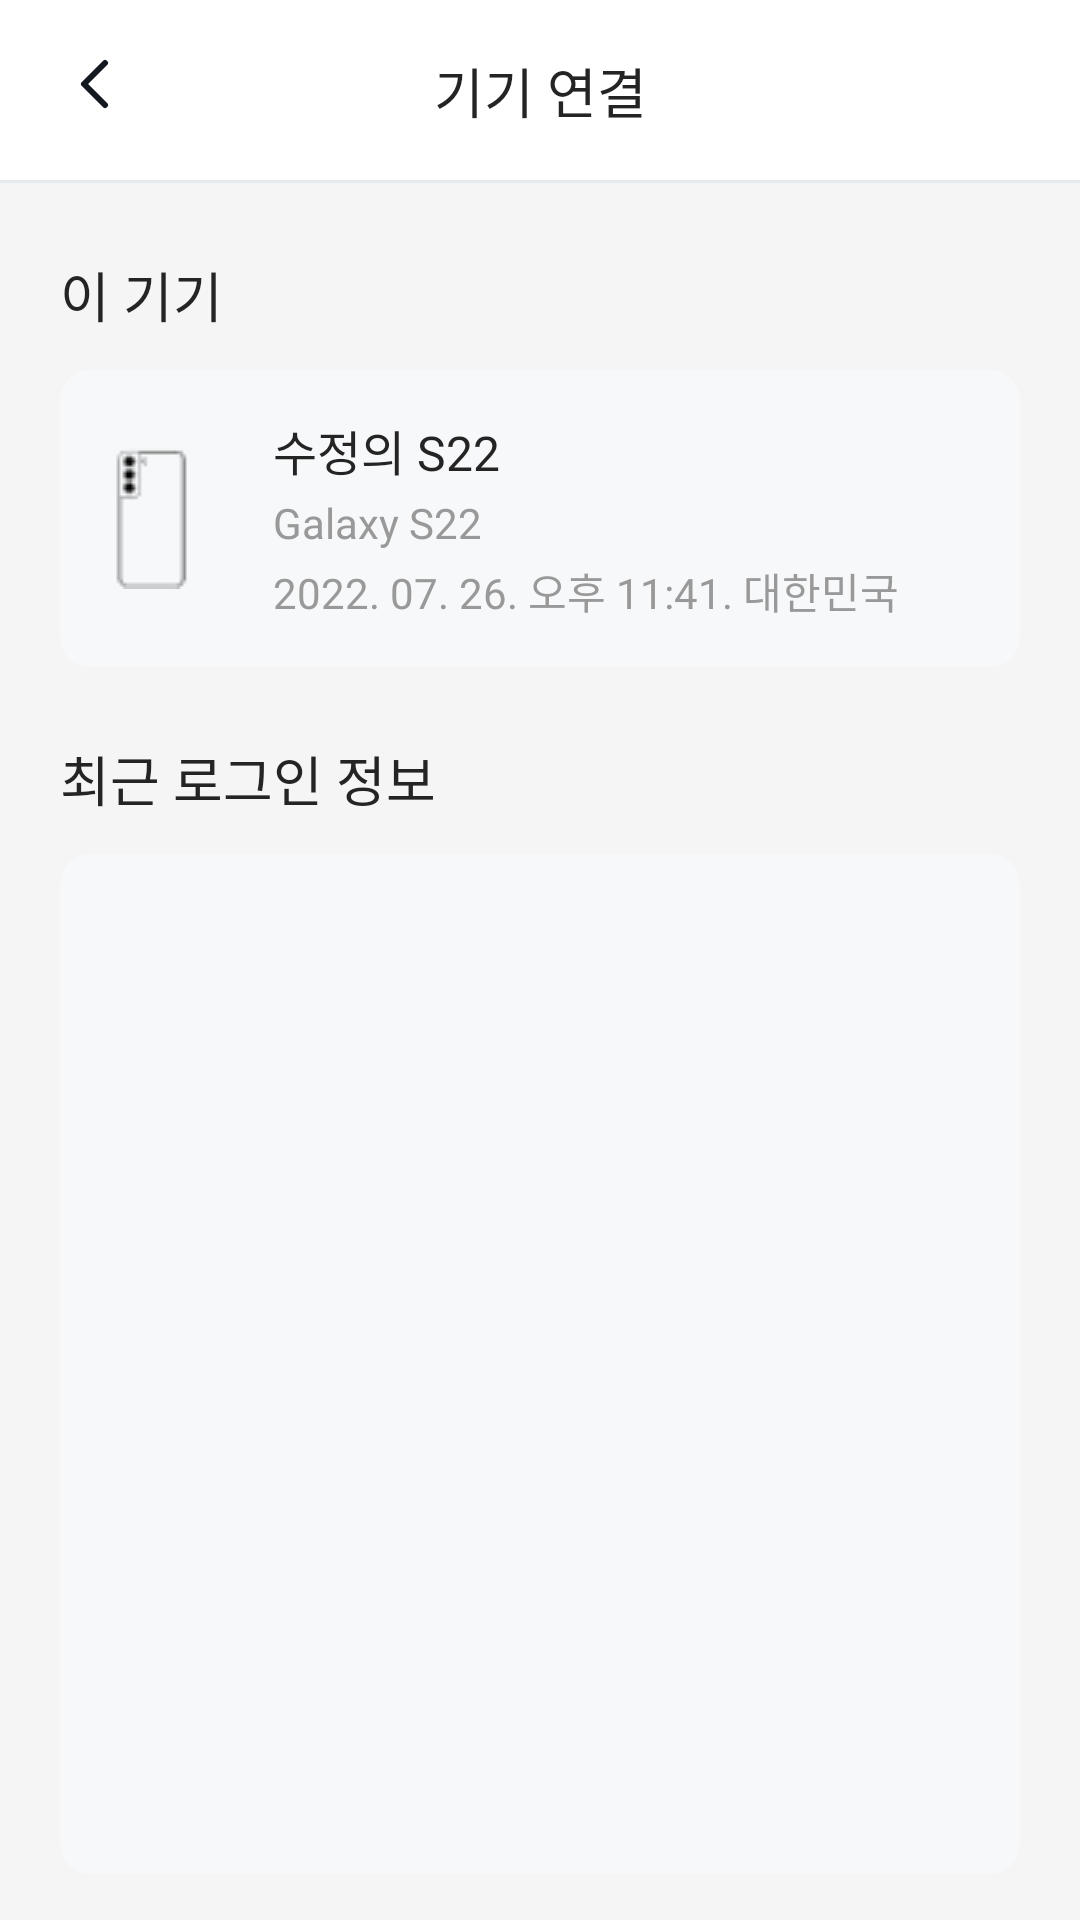

Icon click points for this 1080*1920 phone screenshot, format point (x, y):
뒤로 가기: point (94, 84)
